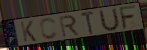C: (39, 17, 60, 41)
F: (118, 4, 139, 31)
K: (19, 20, 39, 43)
R: (58, 14, 81, 39)
T: (79, 10, 96, 36)
U: (99, 7, 121, 33)
